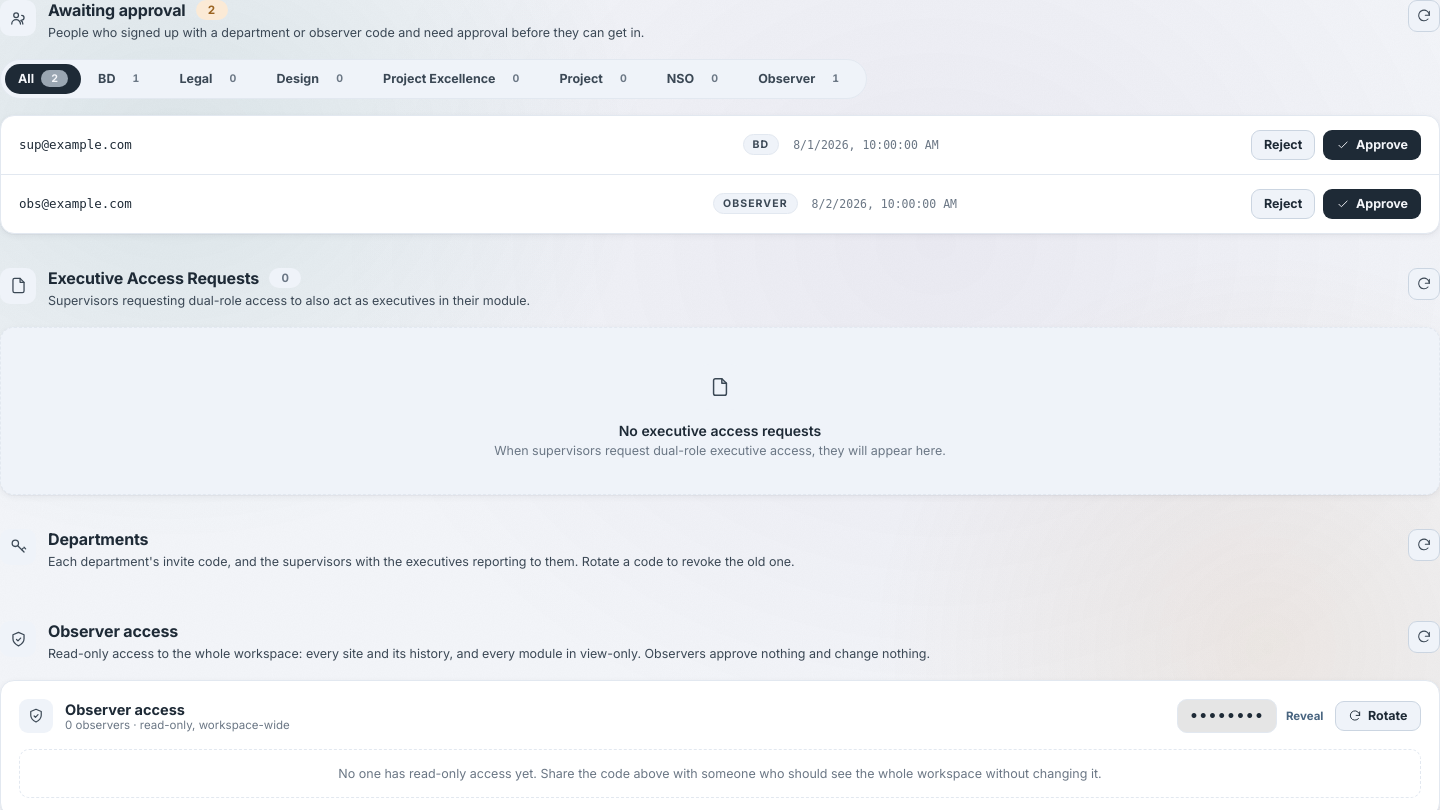
Test: Awaiting approval — one queue › filters to observers only
Click the tab "Observer 1".
click(804, 79)  # box [745,64,862,94]
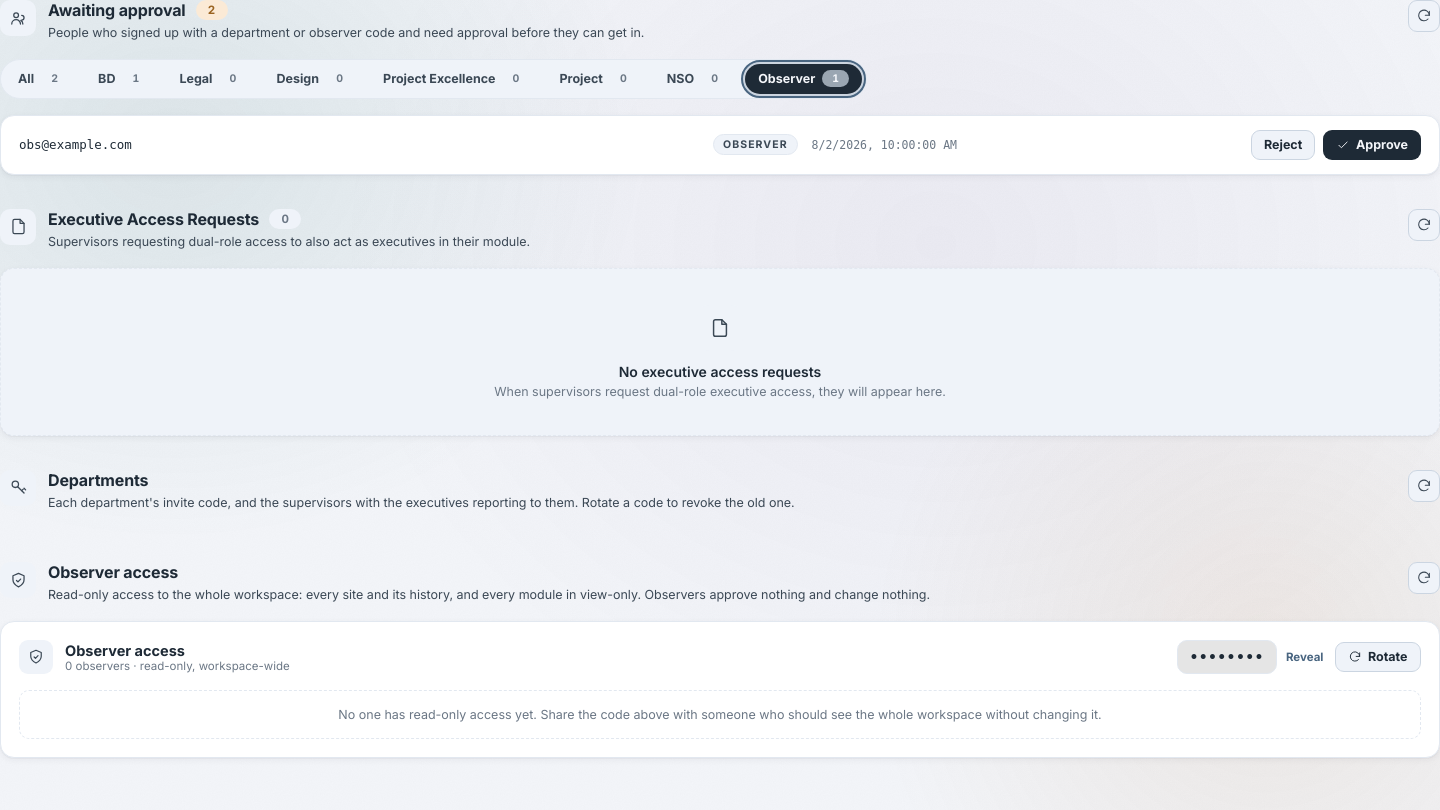
Expected: the text "obs@example.com" is shown, [19,137,132,152]
Now the text "sup@example.com" is gone
